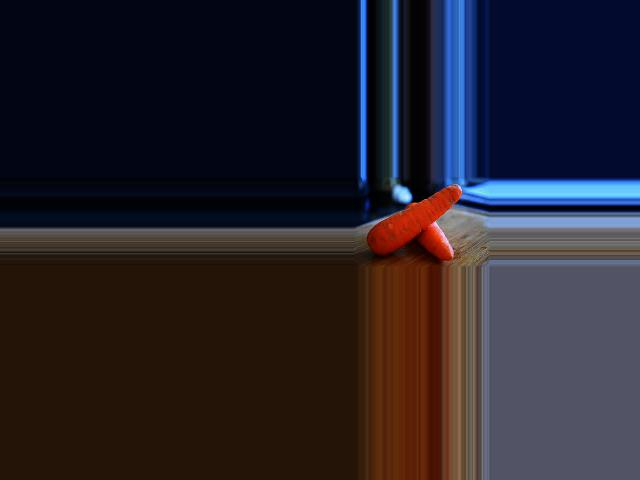carrot: (403, 202, 451, 260)
